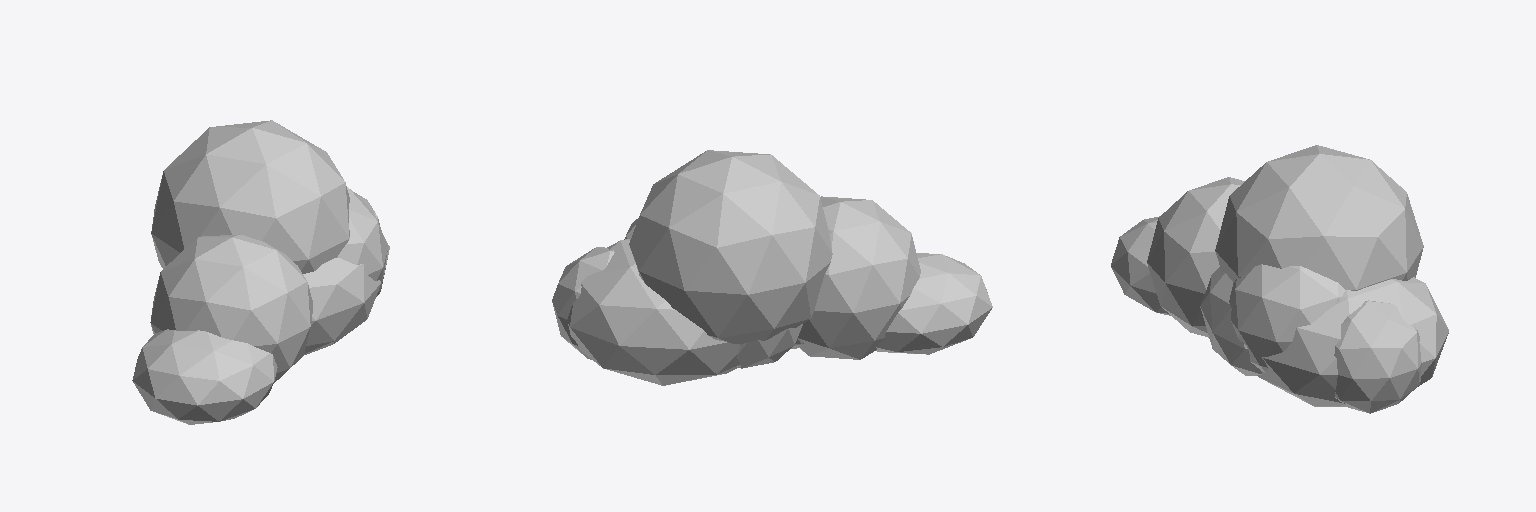
File: cloud.obj
The picture shows the model from 3 angles: view 1: azimuth 30°, elevation 25°; view 2: azimuth 150°, elevation 25°; view 3: azimuth 270°, elevation 25°; orthographic projection.
Visible parts, largest first — view 1: Icosphere.001, Icosphere, Icosphere.002, Icosphere.006, Icosphere.005; view 2: Icosphere.001, Icosphere, Icosphere.007_Icosphere.008, Icosphere.002, Icosphere.003, Icosphere.004_Icosphere.007; view 3: Icosphere.001, Icosphere.007_Icosphere.008, Icosphere, Icosphere.003, Icosphere.005, Icosphere.002, Icosphere.006.
Boxes of the visible parts, x1=… form: Icosphere.001: x1=151, y1=120, x2=349, y2=273; Icosphere: x1=150, y1=234, x2=312, y2=382; Icosphere.002: x1=132, y1=329, x2=277, y2=424; Icosphere.006: x1=303, y1=258, x2=380, y2=354; Icosphere.005: x1=337, y1=187, x2=387, y2=291; Icosphere.001: x1=629, y1=150, x2=832, y2=344; Icosphere: x1=798, y1=196, x2=920, y2=359; Icosphere.007_Icosphere.008: x1=567, y1=239, x2=740, y2=385; Icosphere.002: x1=876, y1=253, x2=992, y2=354; Icosphere.003: x1=552, y1=247, x2=614, y2=359; Icosphere.004_Icosphere.007: x1=737, y1=324, x2=802, y2=368; Icosphere.001: x1=1215, y1=145, x2=1423, y2=290; Icosphere.007_Icosphere.008: x1=1257, y1=277, x2=1448, y2=406; Icosphere: x1=1147, y1=177, x2=1244, y2=337; Icosphere.003: x1=1334, y1=300, x2=1421, y2=413; Icosphere.005: x1=1229, y1=264, x2=1345, y2=372; Icosphere.002: x1=1111, y1=216, x2=1170, y2=315; Icosphere.006: x1=1200, y1=267, x2=1261, y2=375.
Bounding box in the file's own units: 5.76 × 3.72 × 5.2.